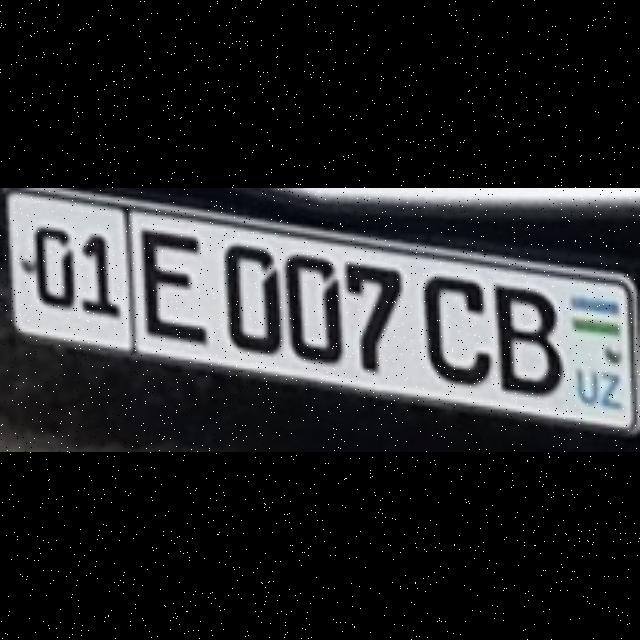0: (284, 252, 338, 358), (222, 244, 276, 348), (31, 225, 71, 305)
1: (80, 231, 116, 311)
7: (344, 262, 400, 370)
B: (496, 283, 560, 391)
C: (418, 270, 486, 382)
E: (142, 228, 200, 336)
